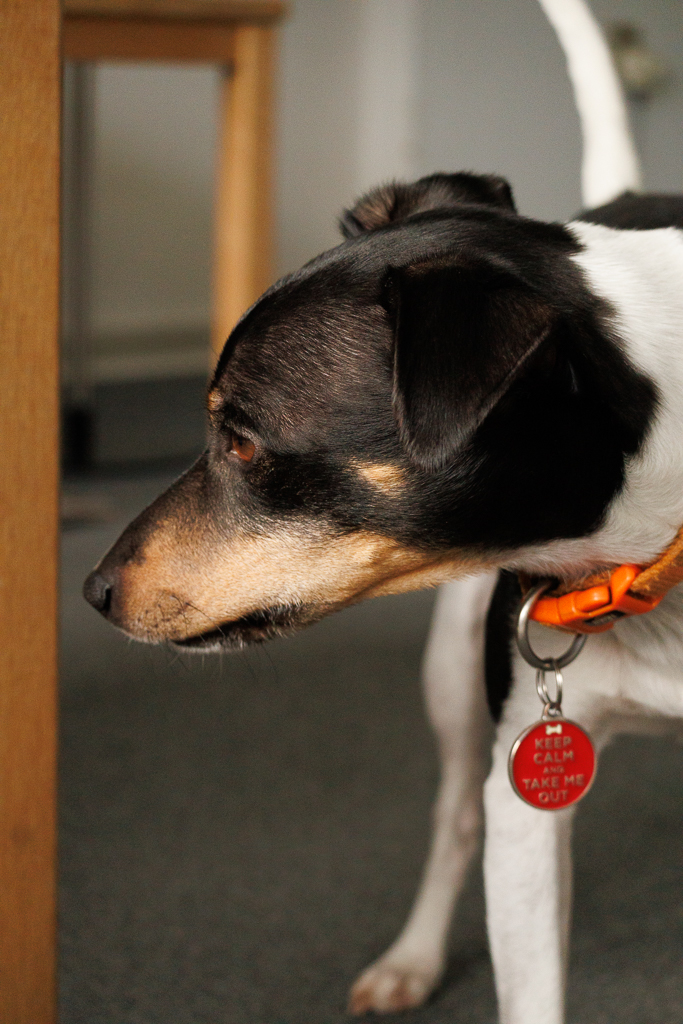Dog: (67, 0, 683, 1024)
